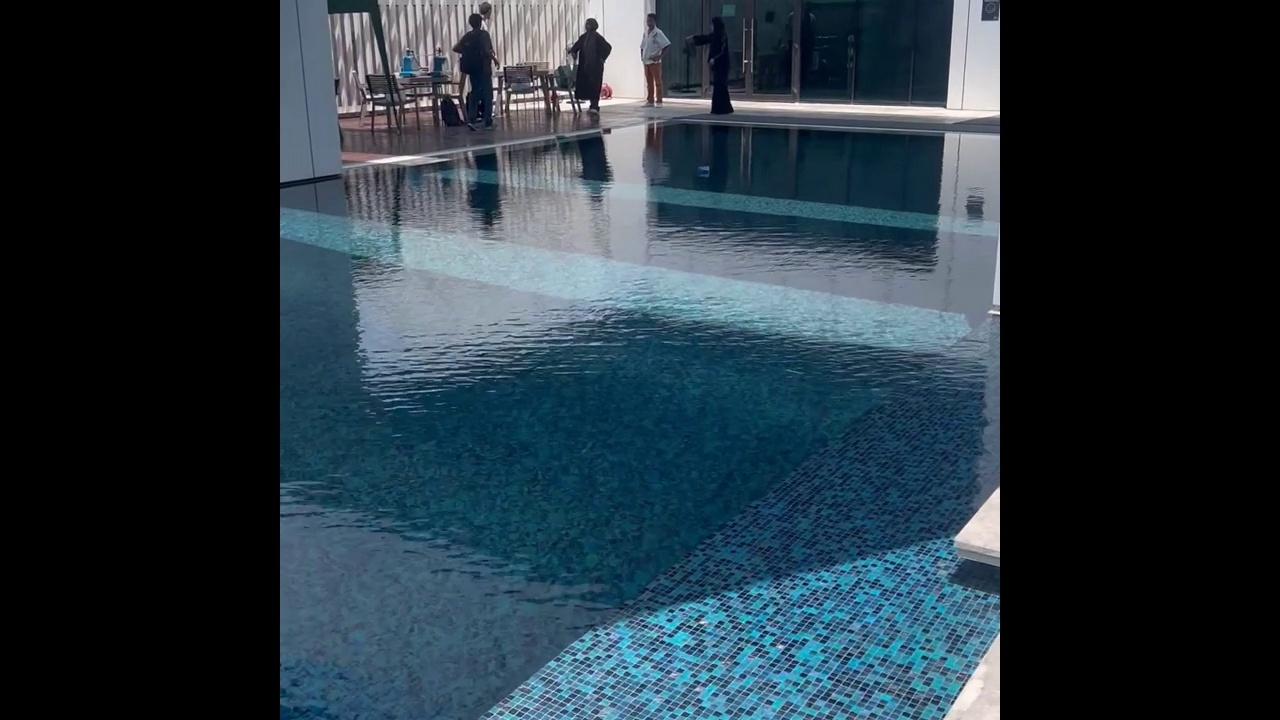debris: (550, 131, 569, 146), (694, 164, 711, 177), (599, 123, 614, 137)
